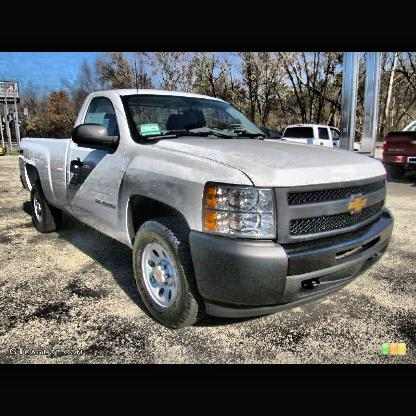Chevrolet Silverado 1500 Regular Cab 2012: (19, 88, 398, 330)
